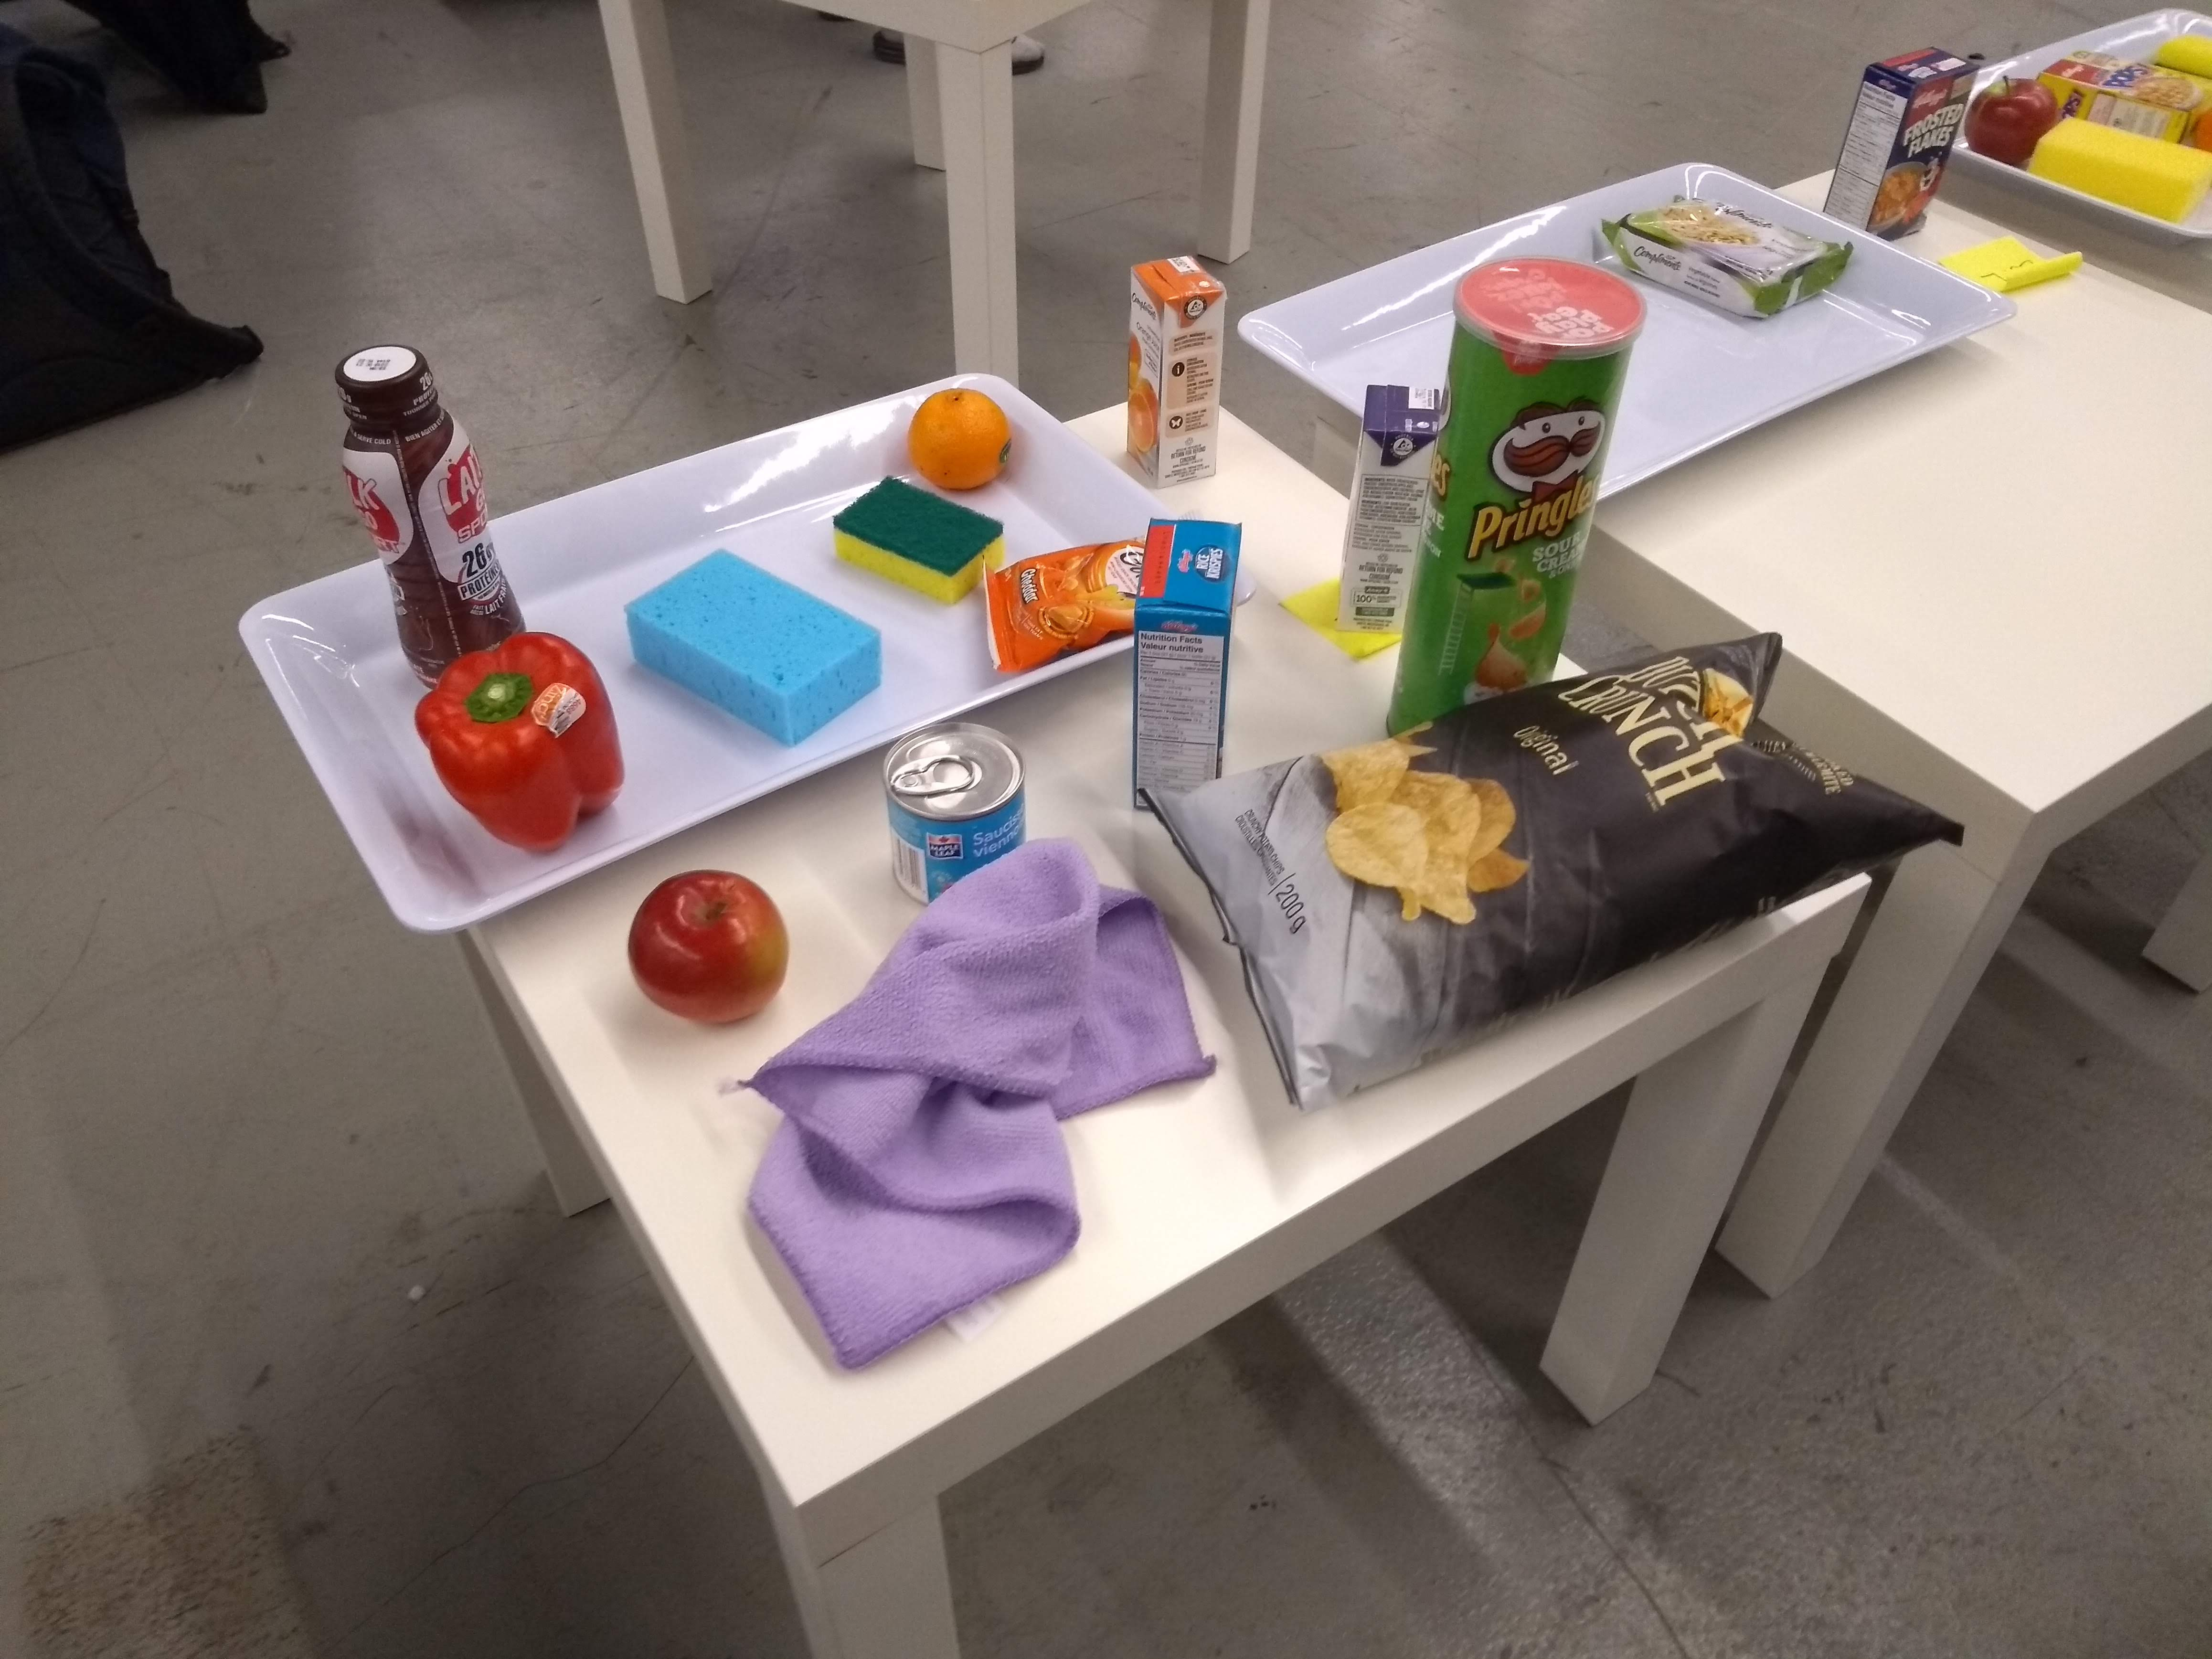apple: (624, 863, 803, 1026), (1965, 71, 2062, 173)
cereal: (1125, 507, 1247, 833), (1818, 40, 1991, 239)
chocolate_drink: (324, 336, 535, 695)
cloth_opl: (730, 823, 1256, 1391)
noodles: (1595, 181, 1860, 329)
orange: (907, 382, 1017, 497)
orange_juice: (1113, 244, 1231, 502)
paprika: (408, 624, 632, 870)
potato_chips: (1137, 619, 1975, 1112)
pringles: (1381, 247, 1653, 742)
sausages: (881, 725, 1042, 904)
scrubby: (831, 467, 1012, 608)
sponge_opl: (617, 538, 890, 758)
